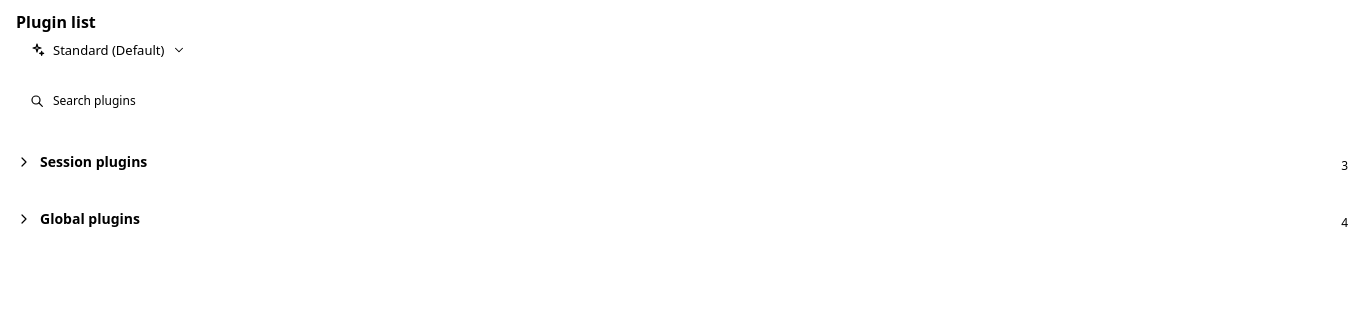
Test: PluginInventory › switches only the viewed composition when the mode selector changes
Click the button "Standard (Default)".
click(108, 50)  # box [16,32,199,69]
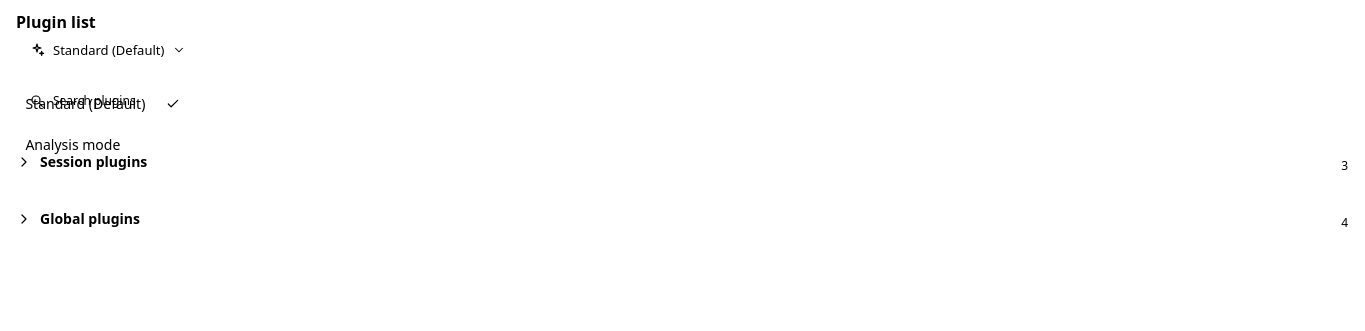
Click the option "Analysis mode".
click(103, 145)  # box [16,127,190,164]
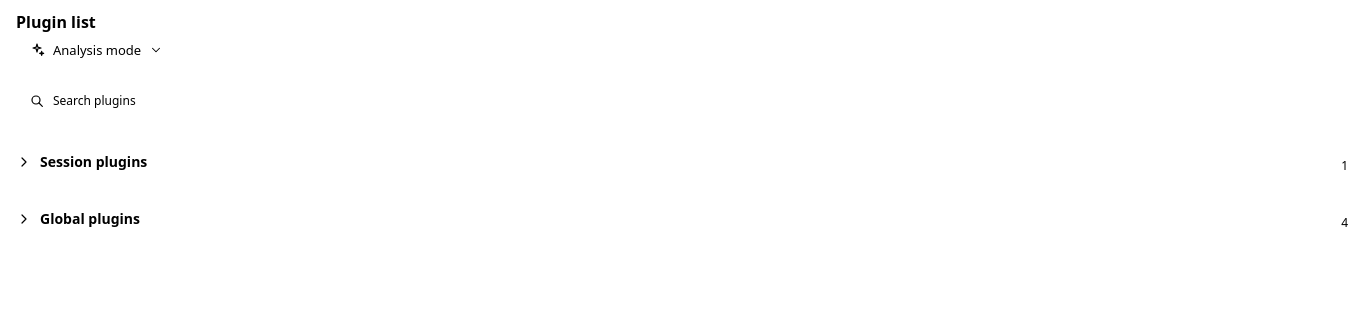
Check: the text with class "dsh-select-menu__trigger-text" reads "Analysis mode", box [53,41,141,59]
Click the button "Session plugins".
click(94, 161)  # box [16,146,1333,178]
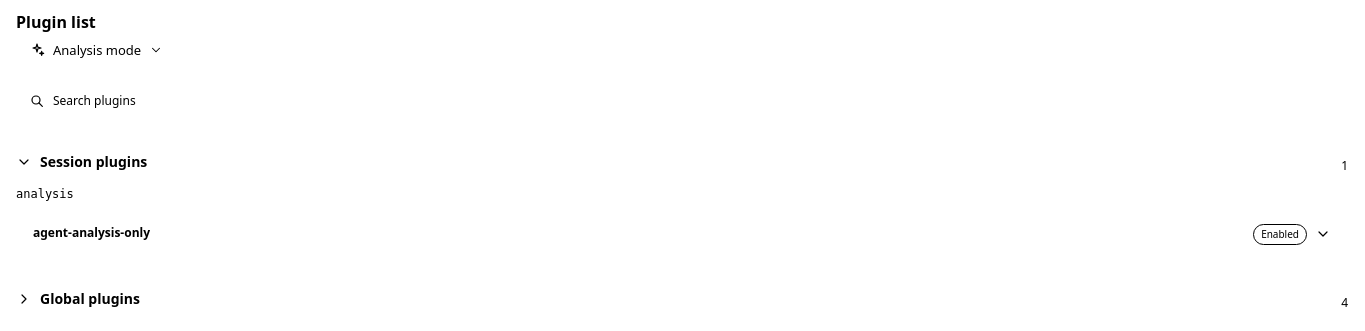
Check: the element "Global plugins" is shown, box [16,270,1348,315]
Check: the text "agent-analysis-only" is shown, box [33,224,150,242]
